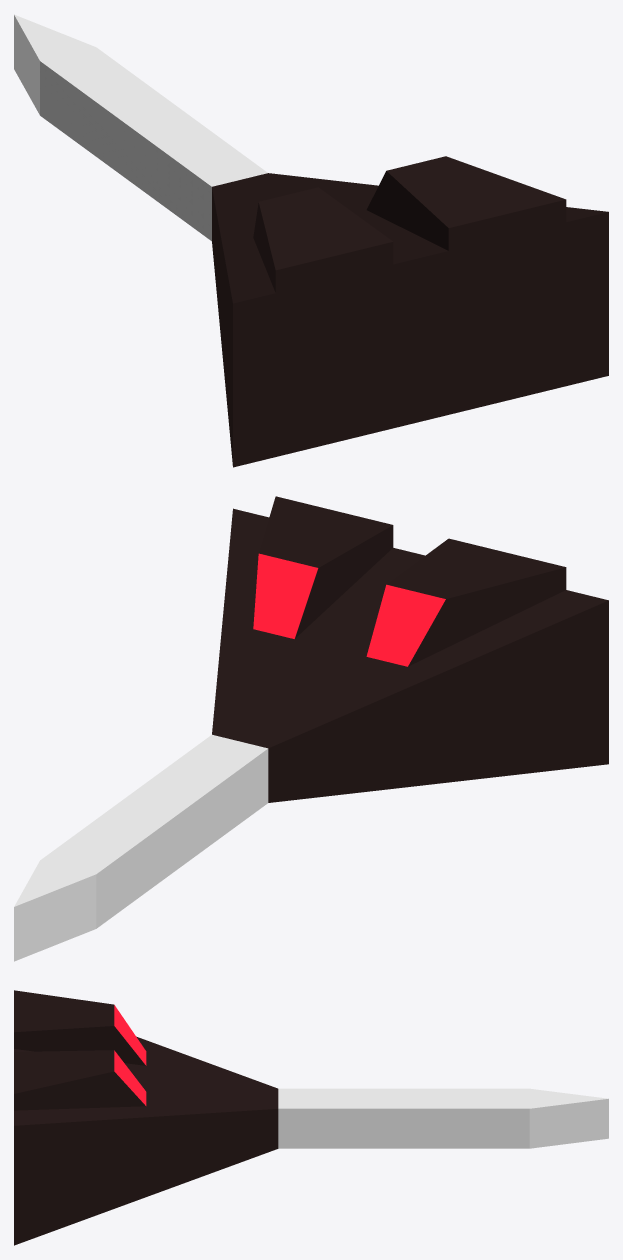
File: mosquito.fbx
3 renders of one model, top to bottom at view 1: azimuth 30°, elevation 25°; view 2: azimuth 150°, elevation 25°; view 3: azimuth 270°, elevation 25°, orthographic. The views are drawn at different scales.
Visible parts, largest first — view 1: Cube; view 2: Cube; view 3: Cube.
Boxes of the visible parts, box(x1,y1,x2,y2) form: Cube: box(14, 14, 608, 467); Cube: box(14, 496, 608, 961); Cube: box(14, 990, 608, 1245).
Bounding box in the file's own units: 120 × 58.67 × 225.
